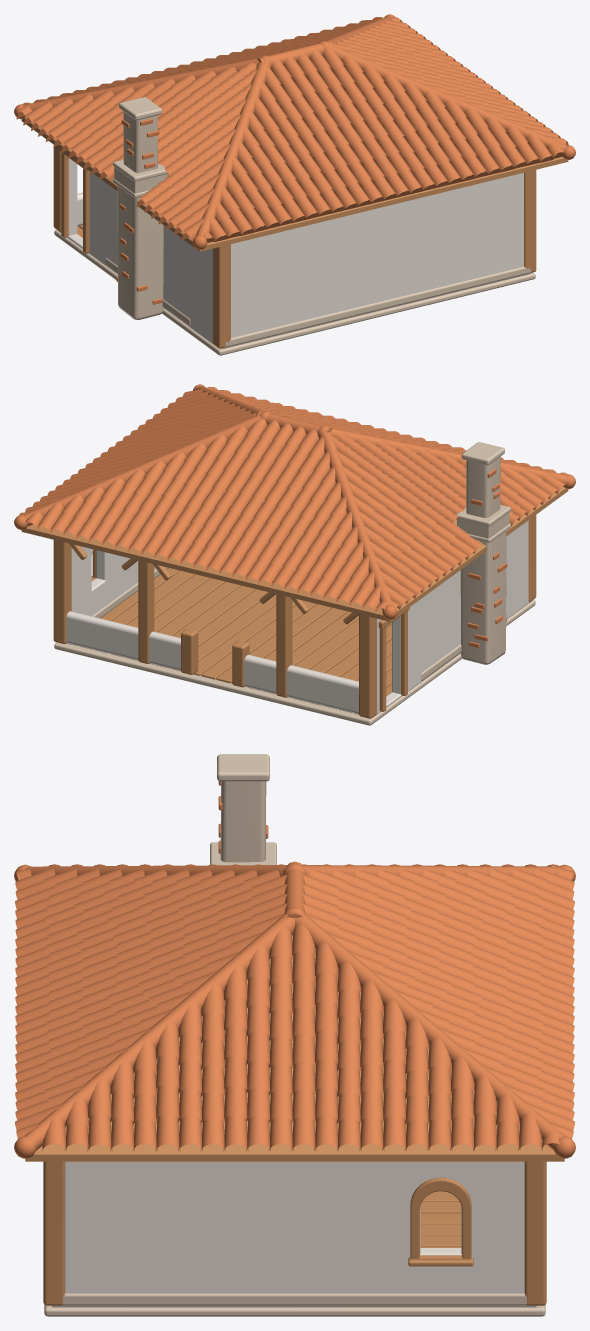
File: REST_SHELL.glb
3 renders of one model, top to bottom at view 1: azimuth 30°, elevation 25°; view 2: azimuth 150°, elevation 25°; view 3: azimuth 270°, elevation 25°, orthographic. The views are drawn at different scales.
Parts seen in each view (by area): view 1: roof_tiles, wall_back, wall_right, roof_ridge, timber_frame, chimney_base, roof_deck, foundation, plinth, chimney_stack, chimney_flashing, chimney_bricks (+1 smaller); view 2: roof_tiles, floor_planks, timber_frame, wall_right, wall_front_low, roof_ridge, roof_deck, chimney_base, foundation, wall_left, chimney_stack, chimney_flashing (+3 smaller); view 3: roof_tiles, wall_left, roof_ridge, roof_deck, timber_frame, plinth, foundation, chimney_stack, window_frame, floor_planks, chimney_cap.
Boxes of the visible parts, <box> form: roof_tiles: <box>16,17,568,242</box>; wall_back: <box>222,173,530,348</box>; wall_right: <box>58,158,217,347</box>; roof_ridge: <box>14,14,575,249</box>; timber_frame: <box>53,146,536,348</box>; chimney_base: <box>117,186,163,319</box>; roof_deck: <box>21,117,568,251</box>; foundation: <box>54,230,535,355</box>; plinth: <box>105,258,530,347</box>; chimney_stack: <box>123,111,157,172</box>; chimney_flashing: <box>113,159,167,197</box>; chimney_bricks: <box>116,118,162,304</box>; roof_tiles: <box>19,387,567,611</box>; floor_planks: <box>67,568,391,714</box>; timber_frame: <box>53,515,536,718</box>; wall_right: <box>372,520,531,717</box>; wall_front_low: <box>66,611,358,714</box>; roof_ridge: <box>14,384,575,619</box>; roof_deck: <box>21,487,568,621</box>; chimney_base: <box>460,531,506,664</box>; foundation: <box>54,600,535,725</box>; wall_left: <box>66,546,155,643</box>; chimney_stack: <box>466,456,500,517</box>; chimney_flashing: <box>456,504,510,542</box>; roof_tiles: <box>15,864,574,1151</box>; wall_left: <box>52,1161,537,1307</box>; roof_ridge: <box>14,861,575,1158</box>; roof_deck: <box>25,935,564,1161</box>; timber_frame: <box>43,1161,546,1305</box>; plinth: <box>62,1293,526,1305</box>; foundation: <box>44,1305,545,1316</box>; chimney_stack: <box>220,781,266,862</box>; window_frame: <box>410,1177,471,1259</box>; floor_planks: <box>420,1191,461,1247</box>; chimney_cap: <box>217,754,269,781</box>.
Bounding box in the file's own units: 39.38 × 20.22 × 32.72.
